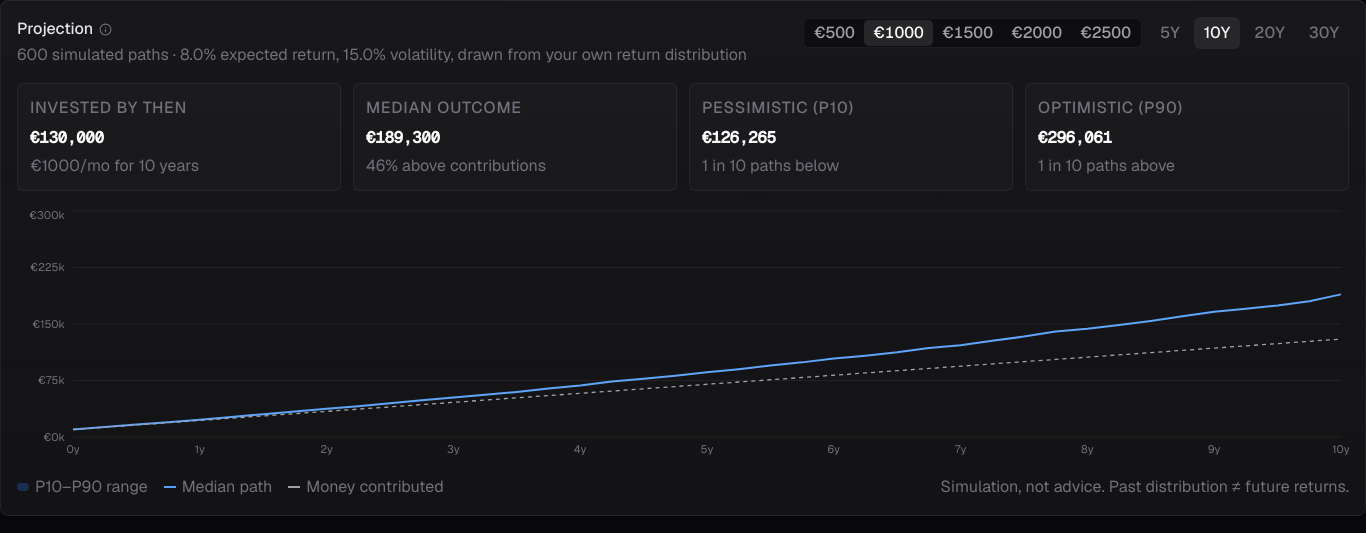
Test: Projection › recomputes when a different year range is picked
The width and height of the screenshot is (1366, 533).
Click the button "30Y" at (1324, 33), box [1299,17,1349,49]
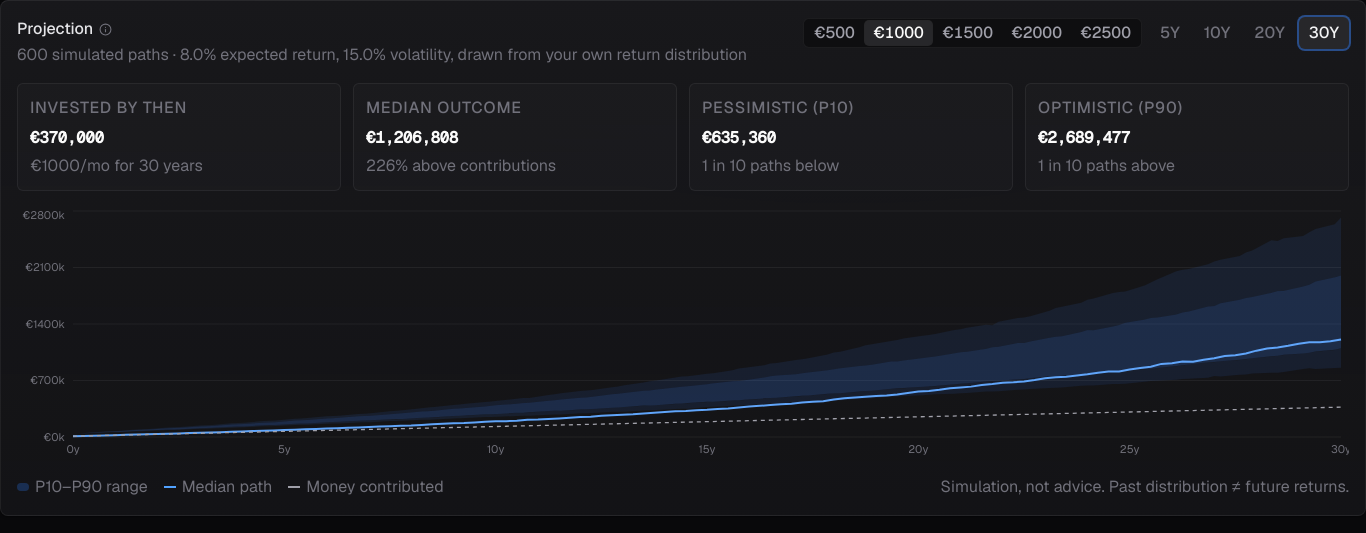
Expected: the text "€1000/mo for 30 years" is shown, [30,155,203,176]
